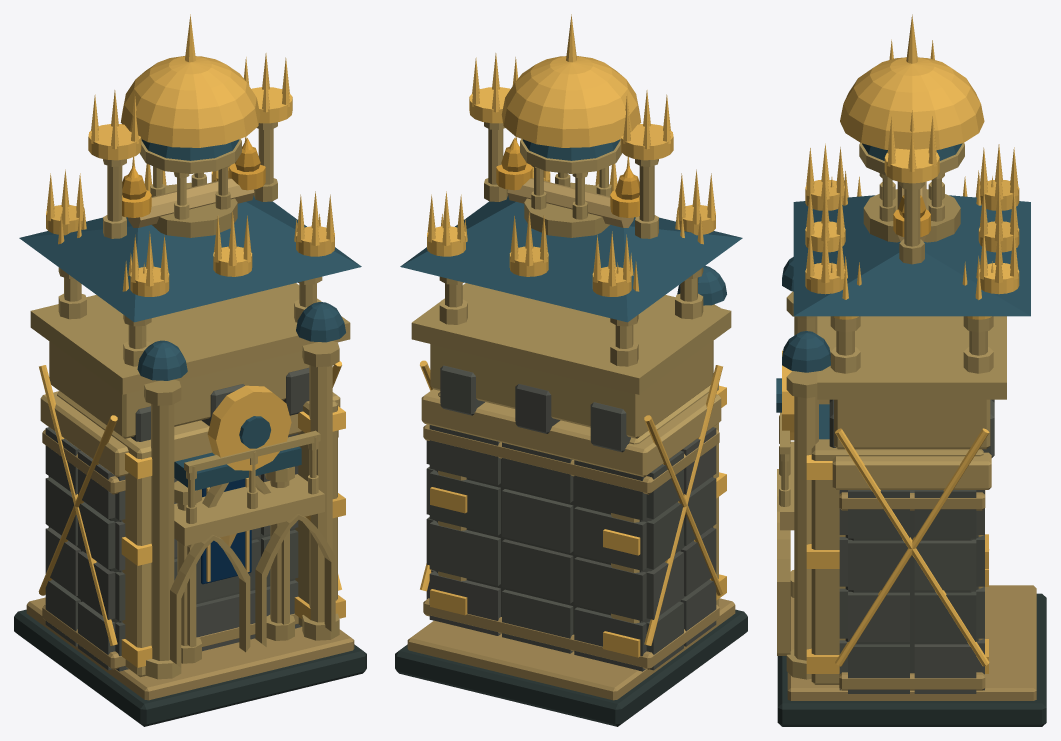
3 renders of one model, left to right at view 1: azimuth 30°, elevation 25°; view 2: azimuth 150°, elevation 25°; view 3: azimuth 270°, elevation 25°, orthographic. The views are drawn at different scales.
Visible parts, largest first — view 1: wall_L15_0, wall_L15_1; view 2: wall_L15_0, wall_L15_1; view 3: wall_L15_0, wall_L15_1.
Boxes of the visible parts, box(x1,y1,x2,y2) form: wall_L15_0: box(14, 122, 366, 726); wall_L15_1: box(38, 14, 345, 667); wall_L15_0: box(395, 122, 747, 726); wall_L15_1: box(420, 14, 726, 657); wall_L15_0: box(776, 143, 1046, 726); wall_L15_1: box(782, 14, 1019, 673).
Size of the model in its own units: 1.9 by 5.02 by 1.87.
